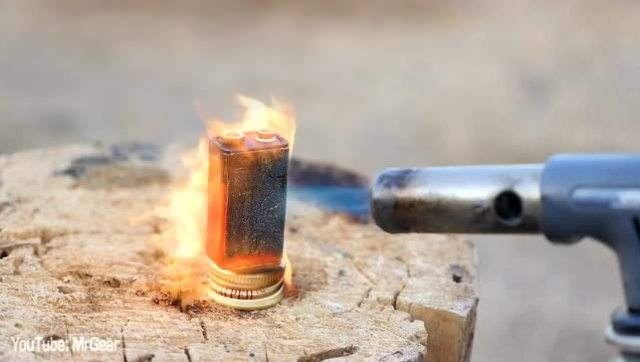fire: (152, 106, 262, 283), (208, 91, 296, 145)
